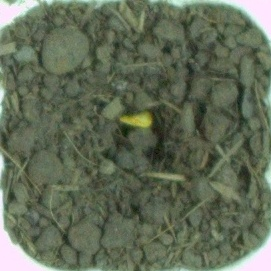chilli seed: (117, 106, 155, 131)
